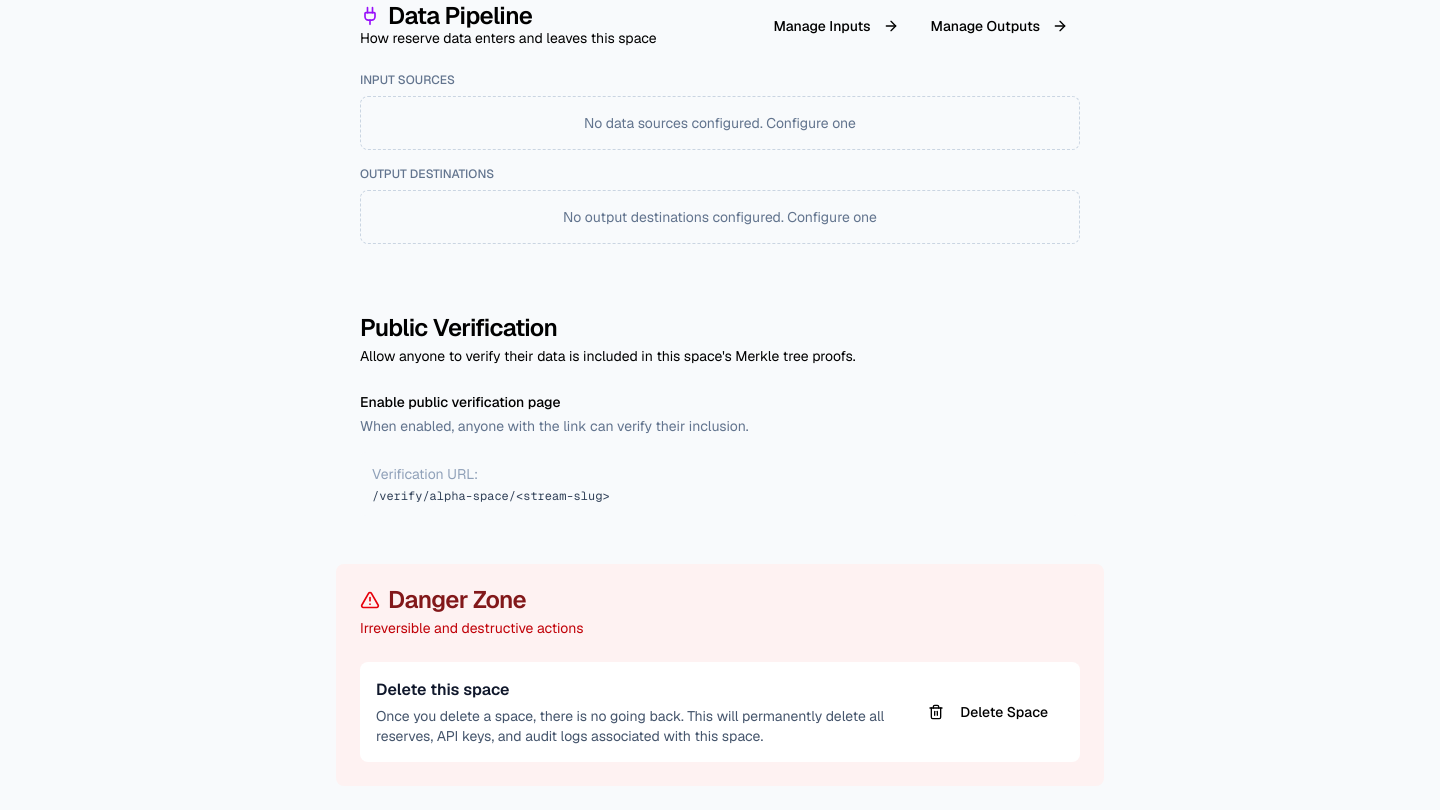
Scenario: Space settings management › restricts permanent deletion to elevated roles and enforces exact name confirmation
This screenshot has width=1440, height=810.
(page scrolled)
Check: the heading "Danger Zone" is shown, box [388,588,526,612]
Click the button "Delete Space": click(988, 712) [912,692,1064,732]
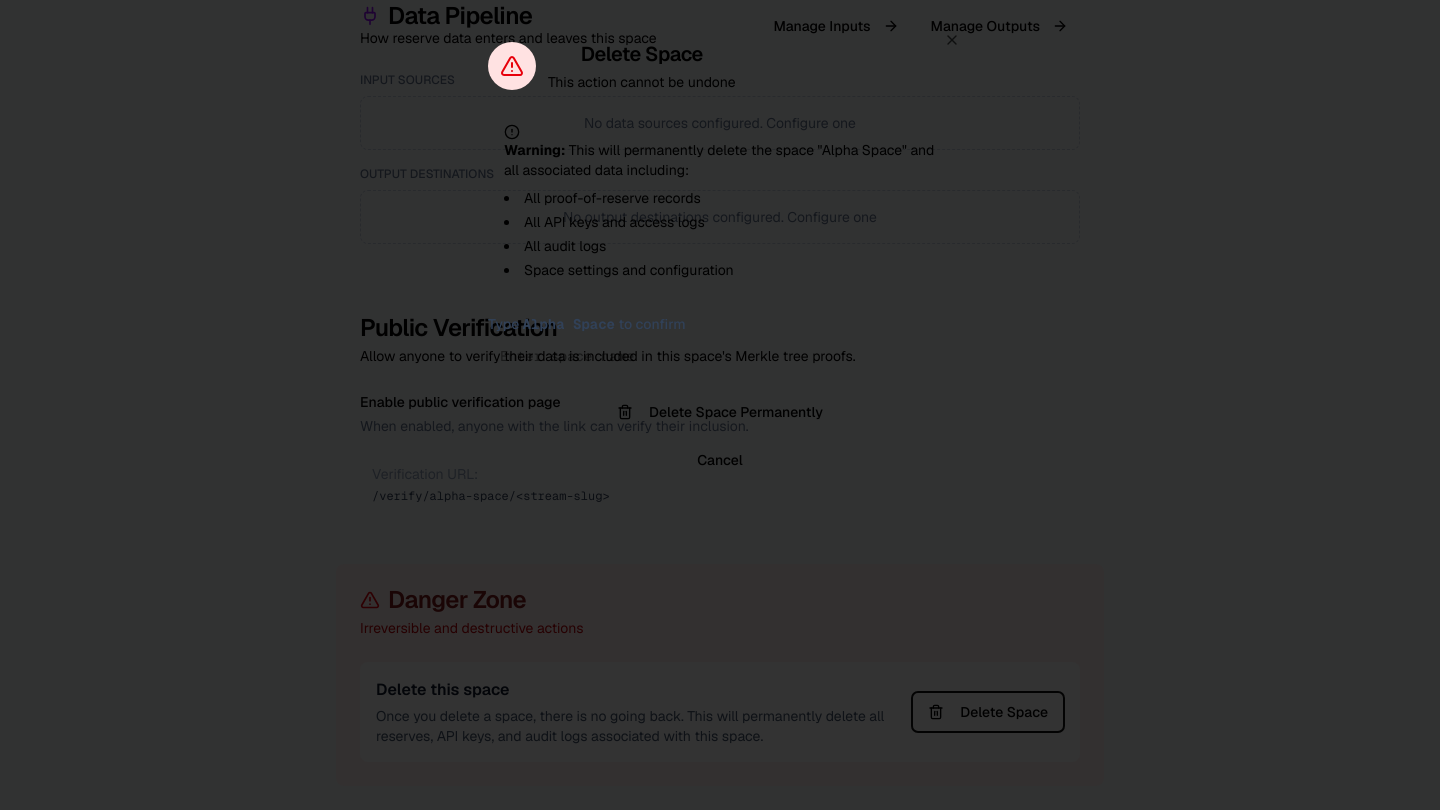
Check: the button "Delete Space Permanently" is disabled, box [488,392,952,432]
In the field labelled "Type Alpha Space to confirm": (720, 356) [488,336,952,376], type "Wrong Space"
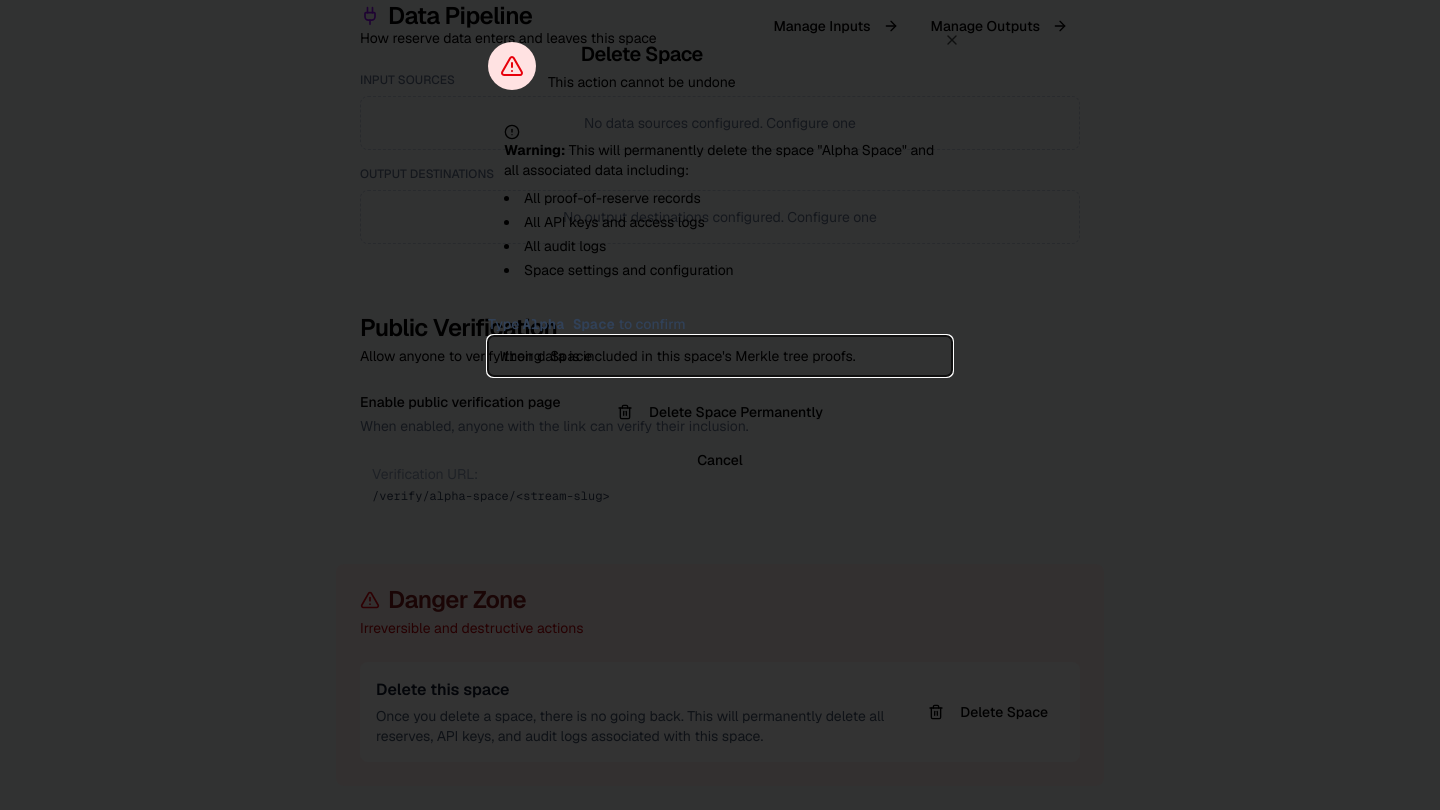
Check: the button "Delete Space Permanently" is disabled, box [488,392,952,432]
Replace the text in the field labelled "Type Alpha Space to confirm" with "Alpha Space": (720, 356) [488,336,952,376]
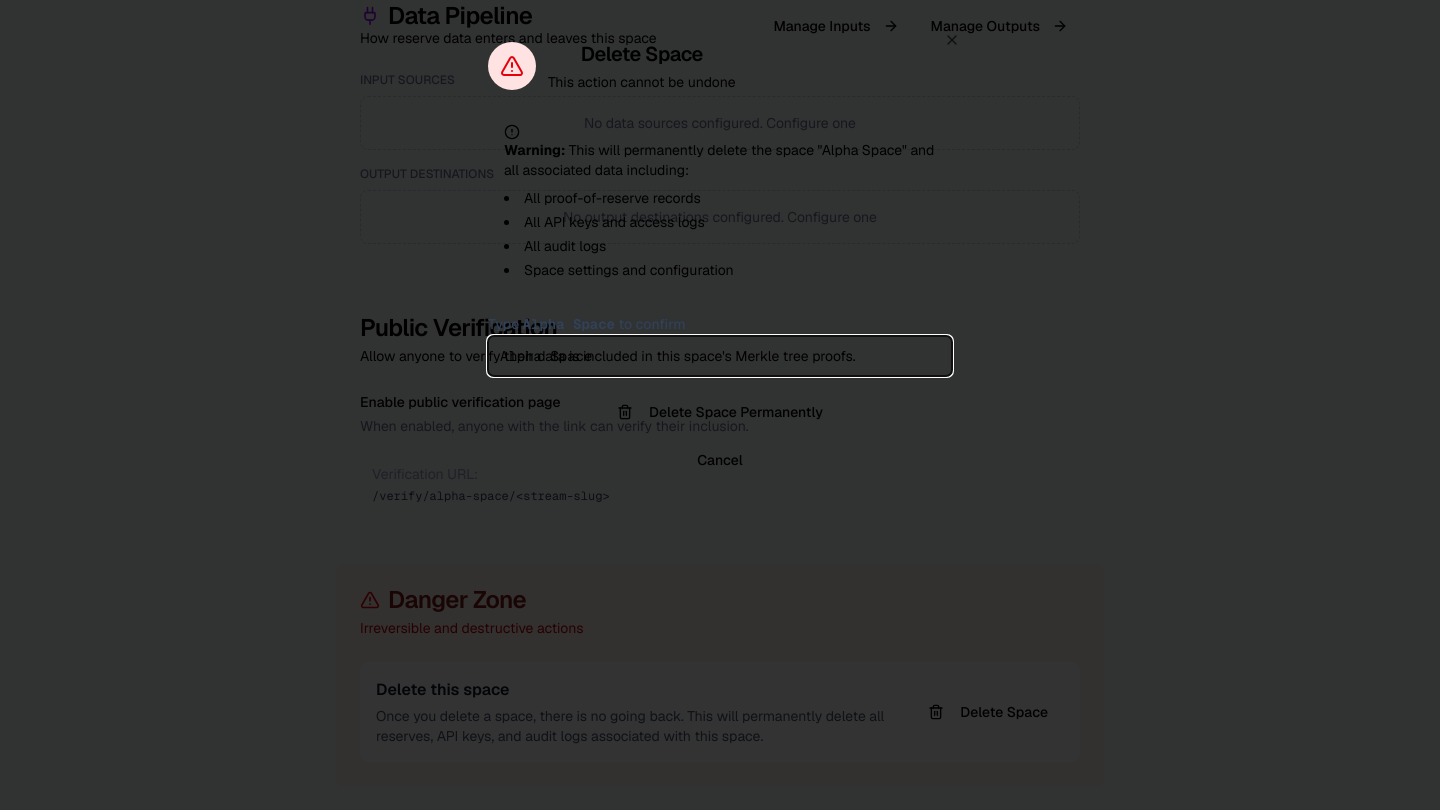
Check: the button "Delete Space Permanently" is enabled, box [488,392,952,432]
Click the button "Cancel": click(720, 460) [488,440,952,480]
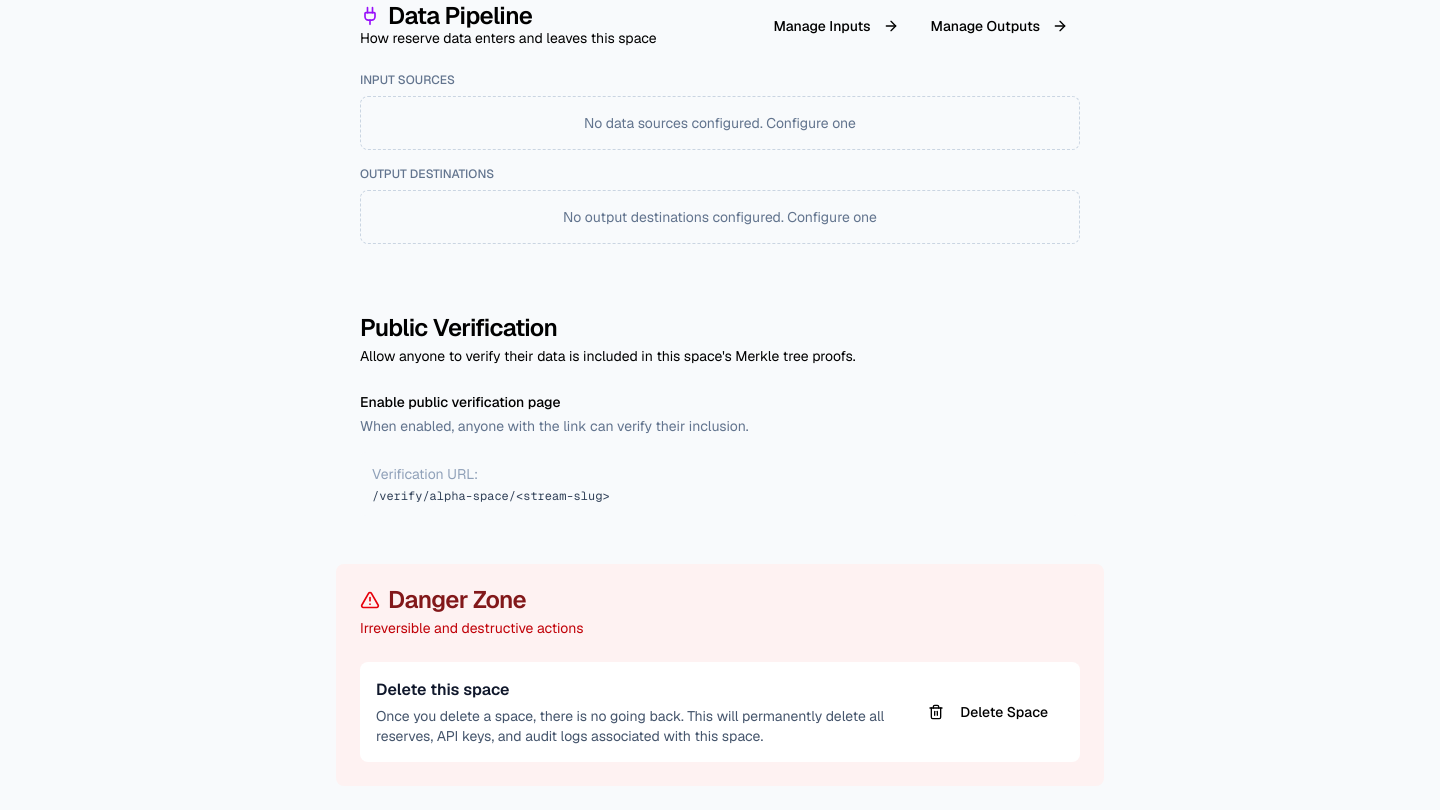
Check: the button "Delete Space Permanently" is gone
